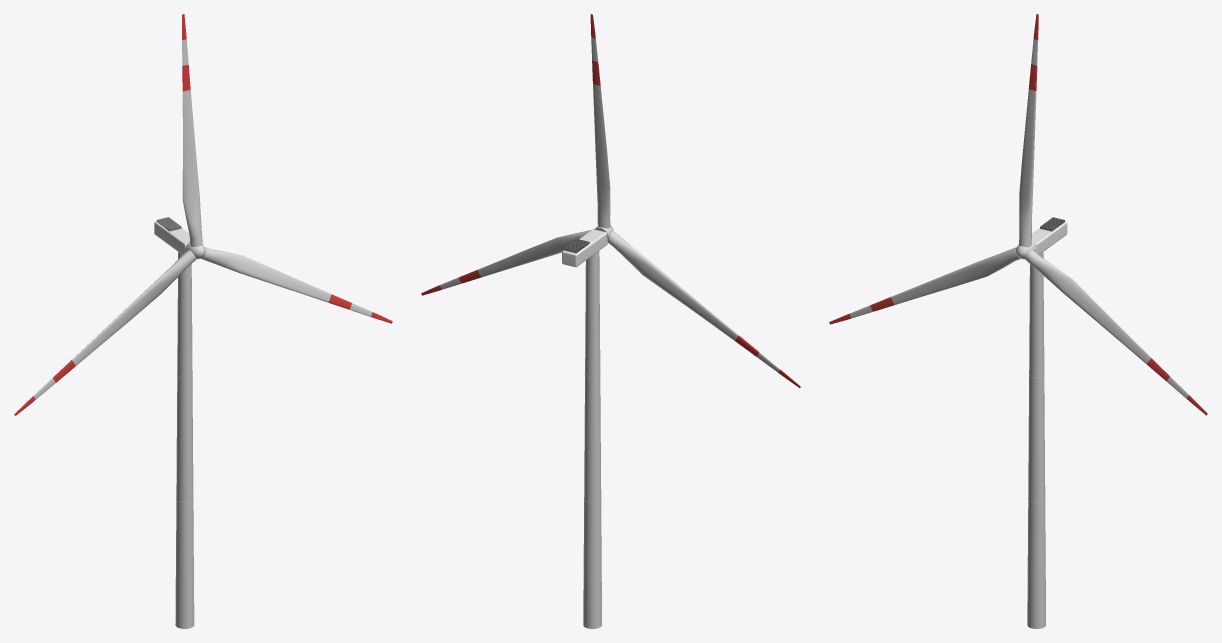
Rendered from WTG.fbx.
The picture shows the model from 3 angles, left to right: view 1: azimuth 30°, elevation 25°; view 2: azimuth 150°, elevation 25°; view 3: azimuth 330°, elevation 25°; orthographic projection.
Visible parts, largest first — view 1: Tower, Blade_1, Blade_2, Blade_3, Nacelle; view 2: Tower, Blade_3, Blade_1, Blade_2, Nacelle; view 3: Tower, Blade_2, Blade_1, Blade_3, Nacelle.
Part boxes in pixels (box(x1,y1,x2,y2)): Tower: box(175, 252, 194, 628); Blade_1: box(182, 14, 202, 246); Blade_2: box(200, 247, 392, 323); Blade_3: box(14, 250, 196, 415); Nacelle: box(154, 221, 189, 254); Tower: box(583, 251, 601, 628); Blade_3: box(607, 231, 800, 387); Blade_1: box(590, 14, 610, 228); Blade_2: box(421, 229, 594, 295); Nacelle: box(562, 229, 607, 267); Tower: box(1027, 252, 1045, 628); Blade_2: box(1025, 250, 1207, 415); Blade_1: box(1019, 14, 1038, 247); Blade_3: box(829, 247, 1020, 324); Nacelle: box(1031, 221, 1067, 254).
Size of the model in its own units: 97.29 by 18.77 by 150.
